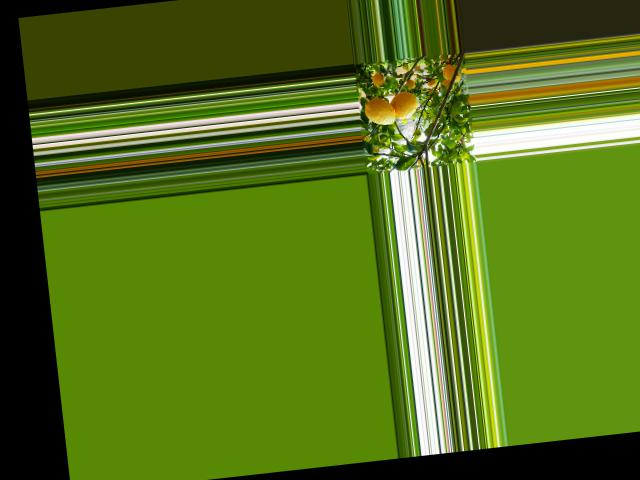lemon: (387, 86, 421, 123)
